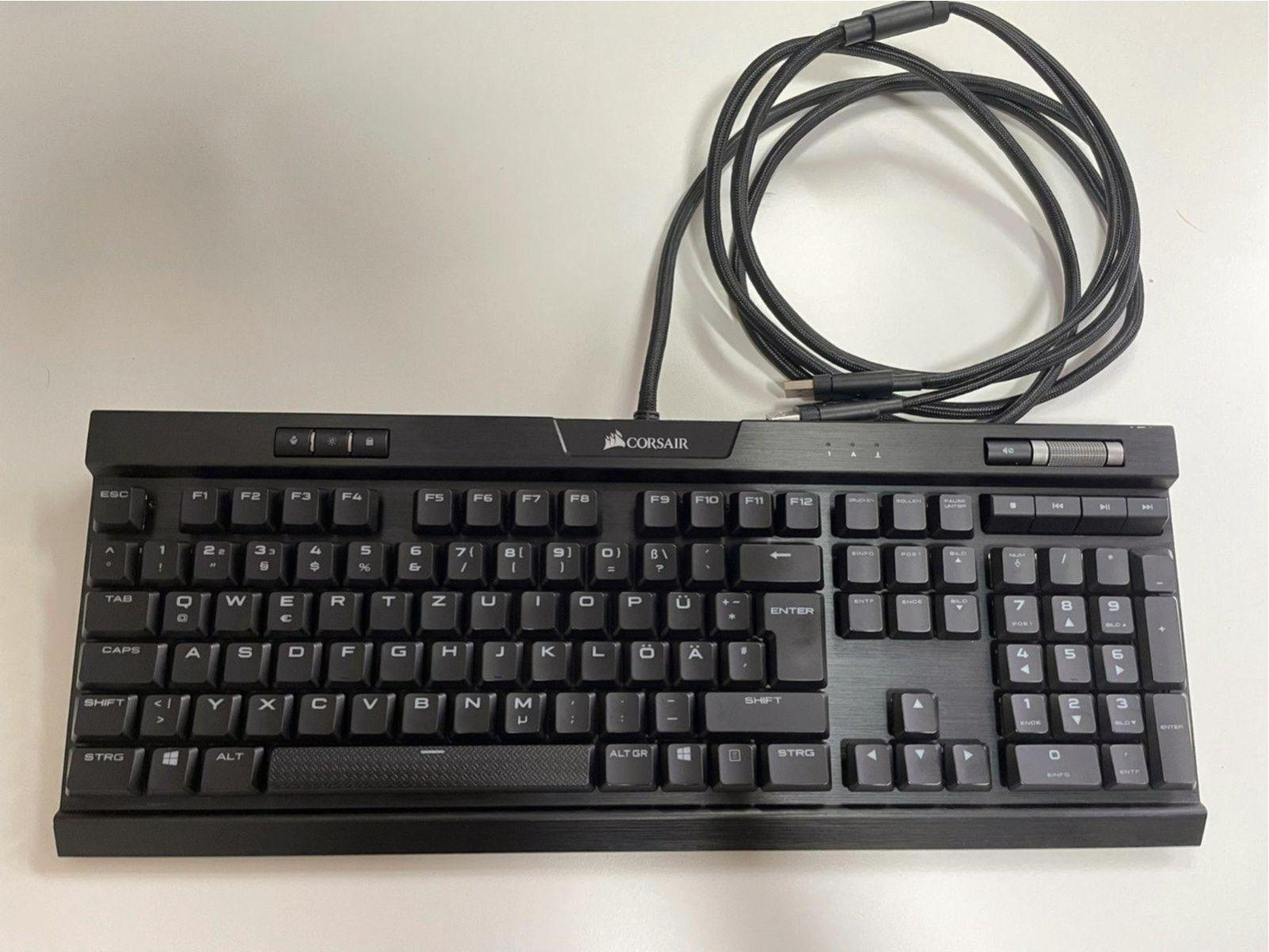0: (591, 536, 630, 578)
1: (140, 538, 178, 579)
2: (191, 538, 232, 578)
3: (243, 536, 282, 579)
4: (294, 537, 333, 578)
5: (344, 537, 385, 579)
6: (396, 537, 435, 578)
7: (445, 539, 482, 578)
8: (494, 539, 532, 579)
9: (542, 538, 581, 578)
a: (170, 639, 212, 682)
accent: (688, 539, 724, 579)
ae: (677, 636, 715, 679)
alt-left: (199, 743, 258, 789)
altgr-right: (603, 739, 655, 785)
b: (401, 689, 441, 731)
c: (297, 689, 339, 732)
caret: (90, 537, 127, 578)
comma: (553, 689, 589, 731)
d: (274, 638, 316, 681)
del: (737, 539, 820, 581)
e: (265, 587, 306, 629)
enter: (760, 587, 824, 681)
f: (327, 638, 366, 680)
g: (378, 638, 418, 679)
h: (429, 638, 469, 680)
hash: (725, 637, 761, 678)
i: (519, 588, 556, 628)
j: (481, 637, 519, 679)
k: (530, 637, 569, 679)
keyboard: (51, 410, 1211, 857)
l: (579, 637, 618, 679)
less: (139, 690, 182, 735)
m: (503, 689, 543, 731)
minus: (652, 689, 690, 730)
n: (453, 689, 493, 731)
o: (568, 587, 605, 628)
oe: (628, 636, 666, 679)
p: (616, 588, 654, 628)
plus: (713, 588, 750, 628)
point: (604, 689, 641, 731)
q: (160, 587, 203, 630)
r: (316, 587, 356, 629)
s: (222, 639, 264, 681)
shift-left: (72, 692, 131, 735)
shift-lock: (78, 639, 159, 683)
shift-right: (703, 689, 826, 731)
space: (263, 742, 594, 789)
ss: (641, 539, 677, 579)
strg-left: (63, 743, 139, 791)
strg-right: (765, 739, 831, 785)
t: (368, 587, 406, 628)
tab: (84, 587, 151, 631)
u: (469, 587, 508, 628)
ue: (665, 587, 701, 629)
v: (350, 689, 389, 732)
w: (213, 587, 255, 631)
x: (244, 690, 287, 735)
y: (191, 690, 233, 735)
z: (419, 587, 456, 628)
